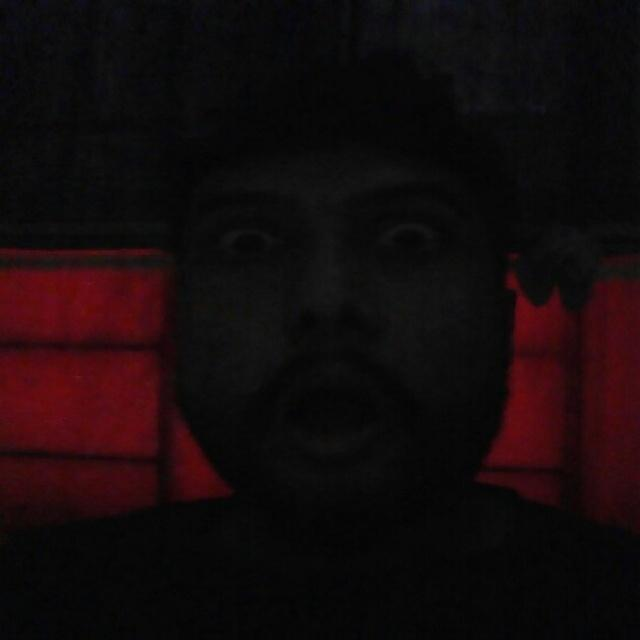Surprised: (136, 87, 537, 567)
